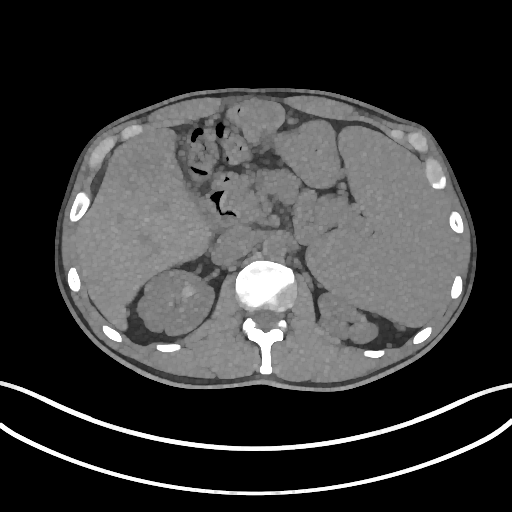Lesion: (178, 280, 197, 299)
